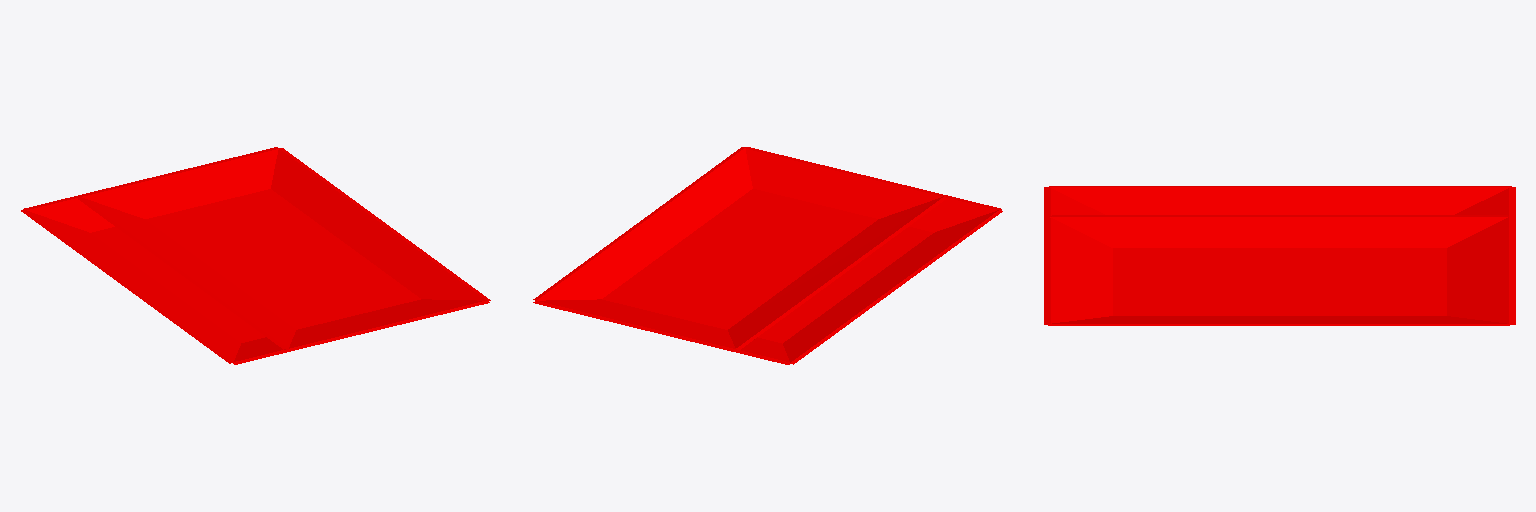
The robot description file, URDF, robot "tray":
<robot name="tray">
  <link name="tray_base_link">
    <contact>
      <lateral_friction value="0.5"/>
      <rolling_friction value="0.0"/>
      <contact_cfm value="0.0"/>
      <contact_erp value="1.0"/>
    </contact>
    <inertial>
      <origin rpy="0 0 0" xyz="0 0 0"/>
      <mass value="0"/>
      <inertia ixx="0" ixy="0" ixz="0" iyy="0" iyz="0" izz="0"/>
    </inertial>
    <visual>
      <origin rpy="0 0 0" xyz="0 0 0"/>
      <geometry>
        <mesh filename="tray_textured_dark.obj" scale="0.55 0.75 0.1"/>
      </geometry>
      <material name="tray_material">
        <color rgba="1 0 0 1"/>
      </material>
    </visual>
    <collision>
      <origin rpy="0 0 0" xyz="0 0 0"/>
      <geometry>
        <mesh filename="tray_textured_dark.obj" scale="0.55 0.75 0.1"/>
      </geometry>
    </collision>
  </link>
</robot>

--- Facts derived from the render (not from the file) ---
The picture shows the robot from 3 angles, left to right: view 1: azimuth 30°, elevation 25°; view 2: azimuth 150°, elevation 25°; view 3: azimuth 270°, elevation 25°; orthographic projection.
Robot: tray — 1 links, 0 joints (none); root link tray_base_link; default pose: every joint at zero.
Links seen in each view (by area): view 1: tray_base_link; view 2: tray_base_link; view 3: tray_base_link.
Link boxes in pixels (x1,y1,x2,y2): tray_base_link: (21,147,490,364); tray_base_link: (533,147,1002,364); tray_base_link: (1044,186,1515,325).
Size in the robot's own frame: 0.6532 by 0.9232 by 0.0277 metres.
1 mesh visuals loaded from 1 distinct referenced files (1 OBJ).